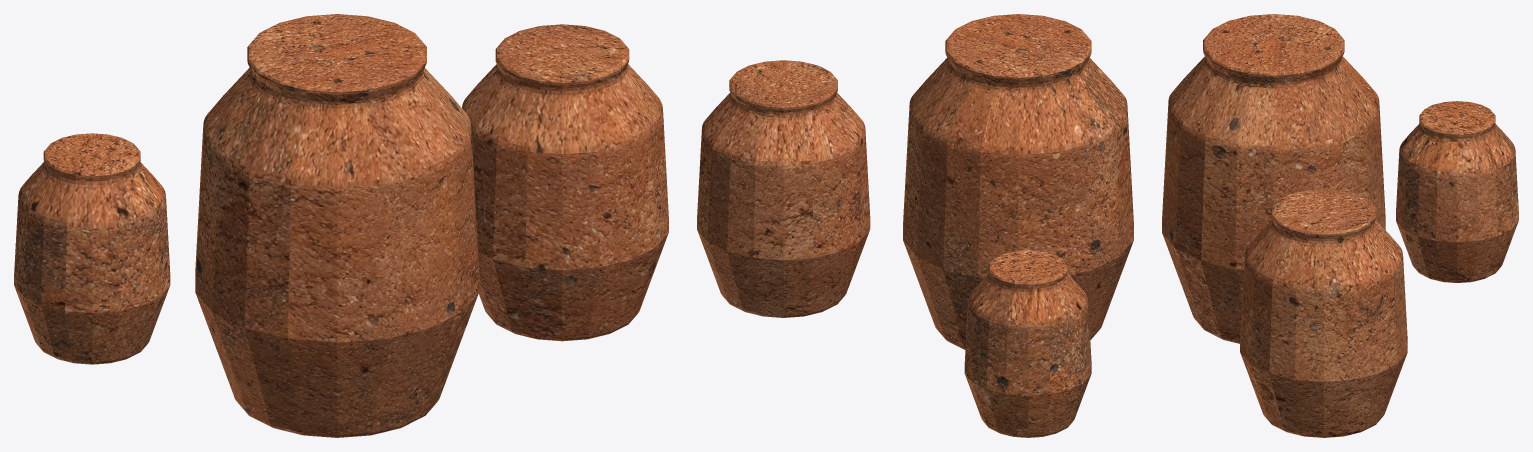
Rendered from ceramic-jars-v01.glb.
3 views of the same model, side by side, from view 1: azimuth 30°, elevation 25°; view 2: azimuth 150°, elevation 25°; view 3: azimuth 270°, elevation 25° (orthographic). The views are drawn at different scales.
Parts seen in each view (by area): view 1: ceramic-jars; view 2: ceramic-jars; view 3: ceramic-jars.
Boxes of the visible parts, x1,y1,x2,y2 form: ceramic-jars: (14, 14, 668, 437); ceramic-jars: (697, 14, 1133, 437); ceramic-jars: (1162, 14, 1518, 437).
Size of the model in its own units: 1.49 by 0.9 by 1.07.
Materials: 1 (1 with a texture image).
